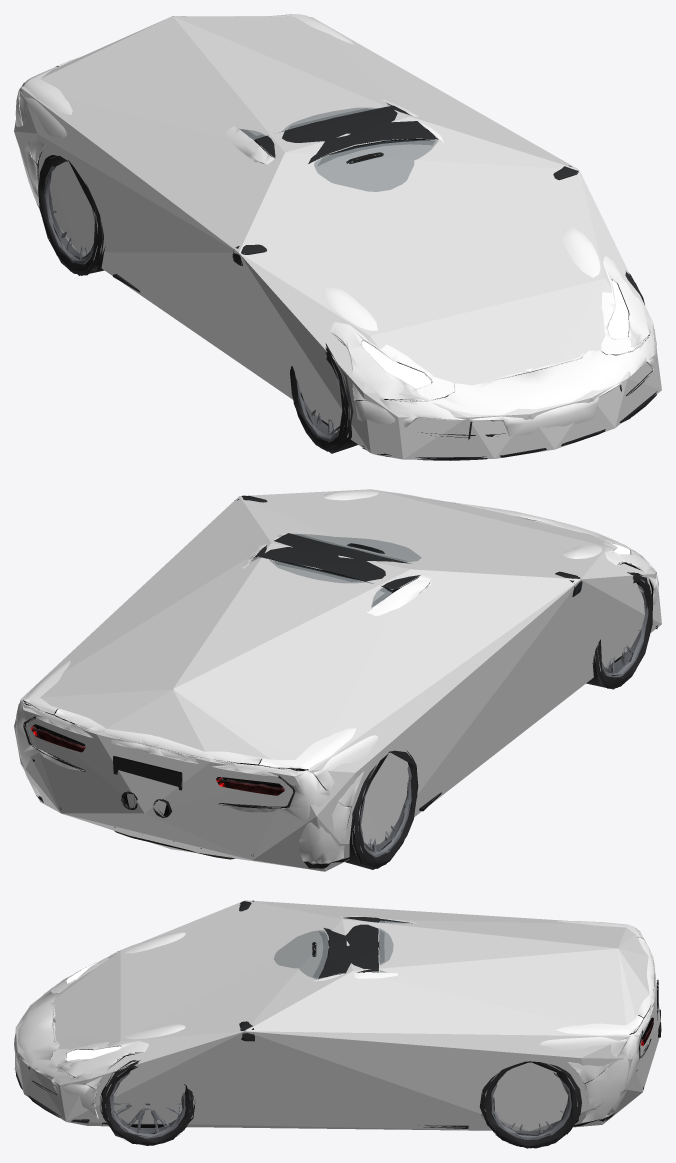
The model's file is bosfor_yildirim_lod1.glb.
The picture shows the model from 3 angles, top to bottom: view 1: azimuth 30°, elevation 25°; view 2: azimuth 150°, elevation 25°; view 3: azimuth 270°, elevation 25°; orthographic projection. The views are drawn at different scales.
Parts seen in each view (by area): view 1: col_body, body, trim, glass, wheel_RR, wheel_FR, lights_front; view 2: col_body, body, trim, wheel_RR, wheel_FR, glass, lights_rear; view 3: col_body, body, trim, wheel_RL, wheel_FL, glass, lights_front.
Boxes of the visible parts, x1,y1,x2,y2 form: col_body: (14, 16, 661, 459); body: (15, 14, 656, 436); trim: (19, 66, 657, 460); glass: (240, 104, 438, 191); wheel_RR: (38, 155, 105, 275); wheel_FR: (290, 343, 357, 453); lights_front: (361, 280, 628, 388); col_body: (14, 489, 661, 871); body: (15, 490, 658, 863); trim: (23, 495, 657, 868); wheel_RR: (345, 750, 418, 869); wheel_FR: (586, 572, 652, 689); glass: (252, 534, 421, 607); lights_rear: (31, 724, 284, 795); col_body: (14, 900, 661, 1131); body: (14, 916, 655, 1122); trim: (15, 900, 660, 1128); wheel_RL: (479, 1061, 581, 1148); wheel_FL: (100, 1060, 195, 1145); glass: (274, 919, 406, 979); lights_front: (66, 953, 120, 1060).
Size of the model in its own units: 2.14 by 1.11 by 4.47.
8 materials, 1 textured.
